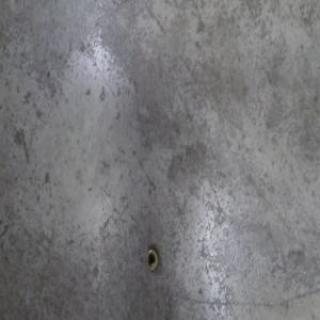Nuttrack_idkeyframe: (144, 244, 158, 272)
